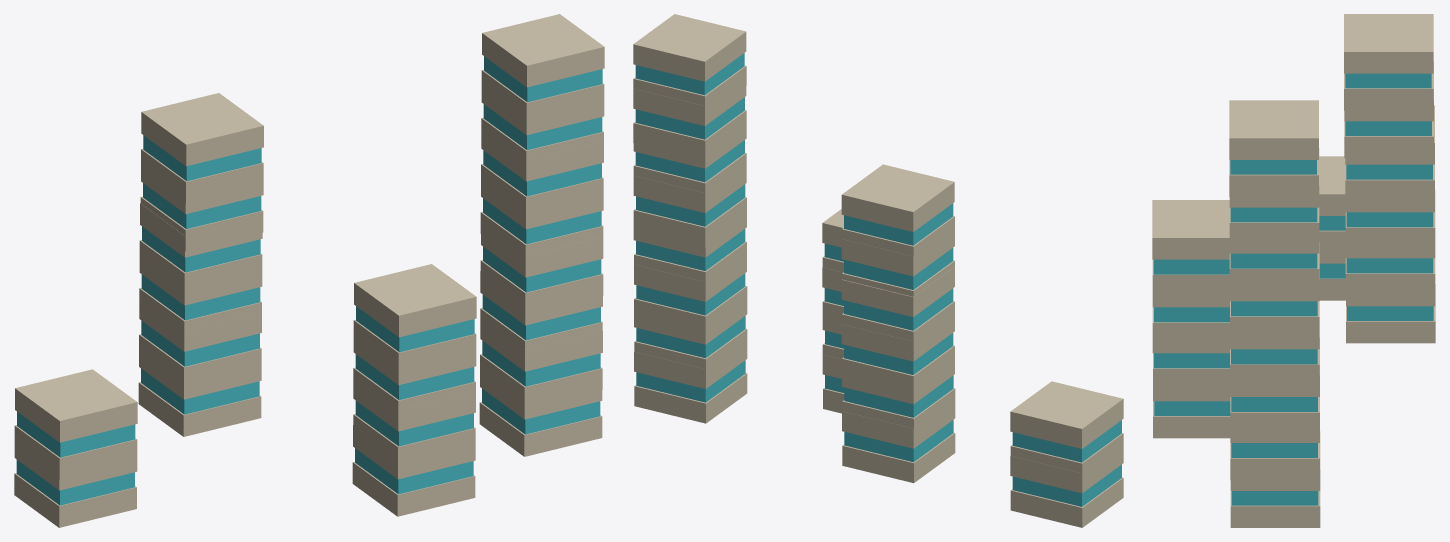
The model's file is bilding.fbx.
3 views of the same model, side by side, from view 1: azimuth 30°, elevation 25°; view 2: azimuth 150°, elevation 25°; view 3: azimuth 270°, elevation 25° (orthographic). The views are drawn at different scales.
Parts seen in each view (by area): view 1: Cube.015, Cube.031, Cube, Cube.032; view 2: Cube.015, Cube.031, Cube.032, Cube; view 3: Cube.015, Cube.031, Cube, Cube.032.
Boxes of the visible parts, box(x1,y1,x2,y2) form: Cube.015: box(479, 14, 604, 456); Cube.031: box(138, 93, 263, 436); Cube: box(352, 264, 476, 516); Cube.032: box(14, 369, 137, 527); Cube.015: box(633, 14, 747, 423); Cube.031: box(841, 164, 955, 483); Cube.032: box(1010, 381, 1123, 527); Cube: box(822, 209, 844, 413); Cube.015: box(1229, 100, 1320, 527); Cube.031: box(1344, 14, 1435, 343); Cube: box(1152, 200, 1230, 438); Cube.032: box(1319, 156, 1345, 300).
Bounding box in the file's own units: 1328 × 962 × 632.
